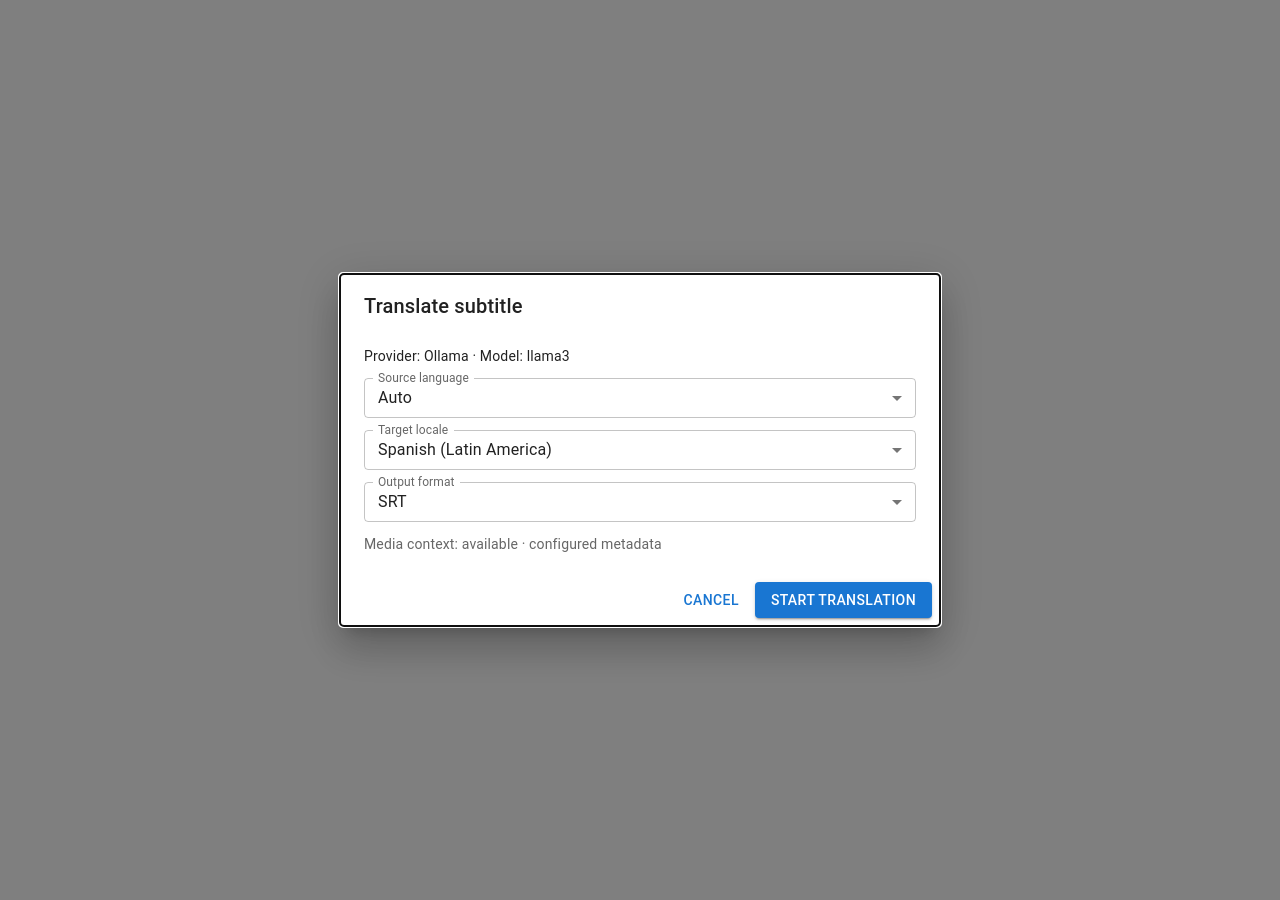
Test: SubtitleTranslationDialog › renders exactly the backend-provided multiple output representations
Click the dropdown named "Output format" at (392, 502), box 378,492 -> 407,511
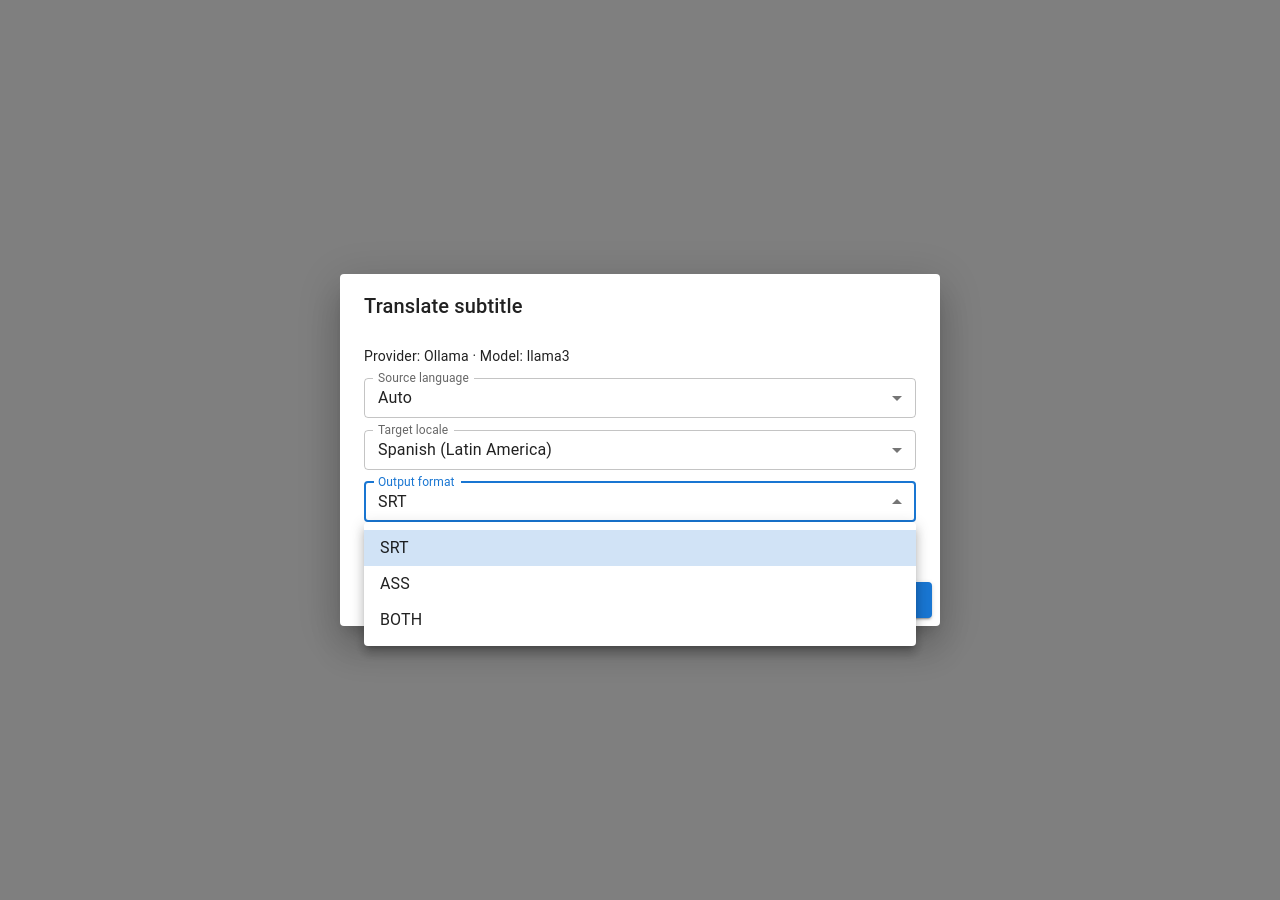
Now the option "SRT" is shown, box 364,530 -> 916,566
Now the option "ASS" is shown, box 380,574 -> 410,593
Now the option "BOTH" is shown, box 380,610 -> 422,629
